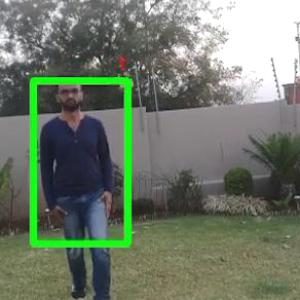follow: (46, 82, 112, 289)
